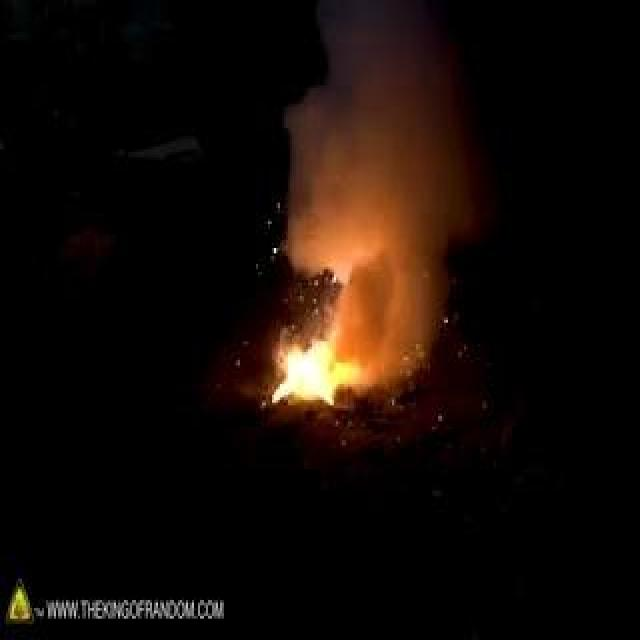Fire: (132, 162, 314, 332)
